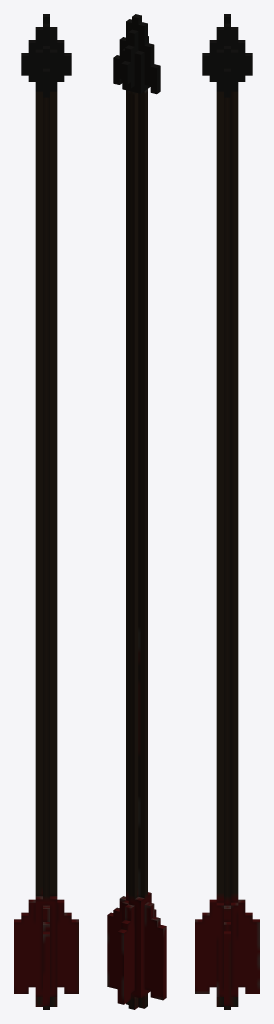
The model's file is Arrow_Broadhead_Iron.obj.
3 renders of one model, left to right at view 1: azimuth 90°, elevation 25°; view 2: azimuth 150°, elevation 25°; view 3: azimuth 270°, elevation 25°, orthographic.
Parts seen in each view (by area): view 1: Arrow_Broadhead_Iron; view 2: Arrow_Broadhead_Iron; view 3: Arrow_Broadhead_Iron.
Part boxes in pixels (x1,y1,x2,y2): Arrow_Broadhead_Iron: (14,14,78,1009); Arrow_Broadhead_Iron: (107,14,166,1009); Arrow_Broadhead_Iron: (195,14,259,1009).
Bounding box in the file's own units: 0.09 × 1.52 × 0.09.
